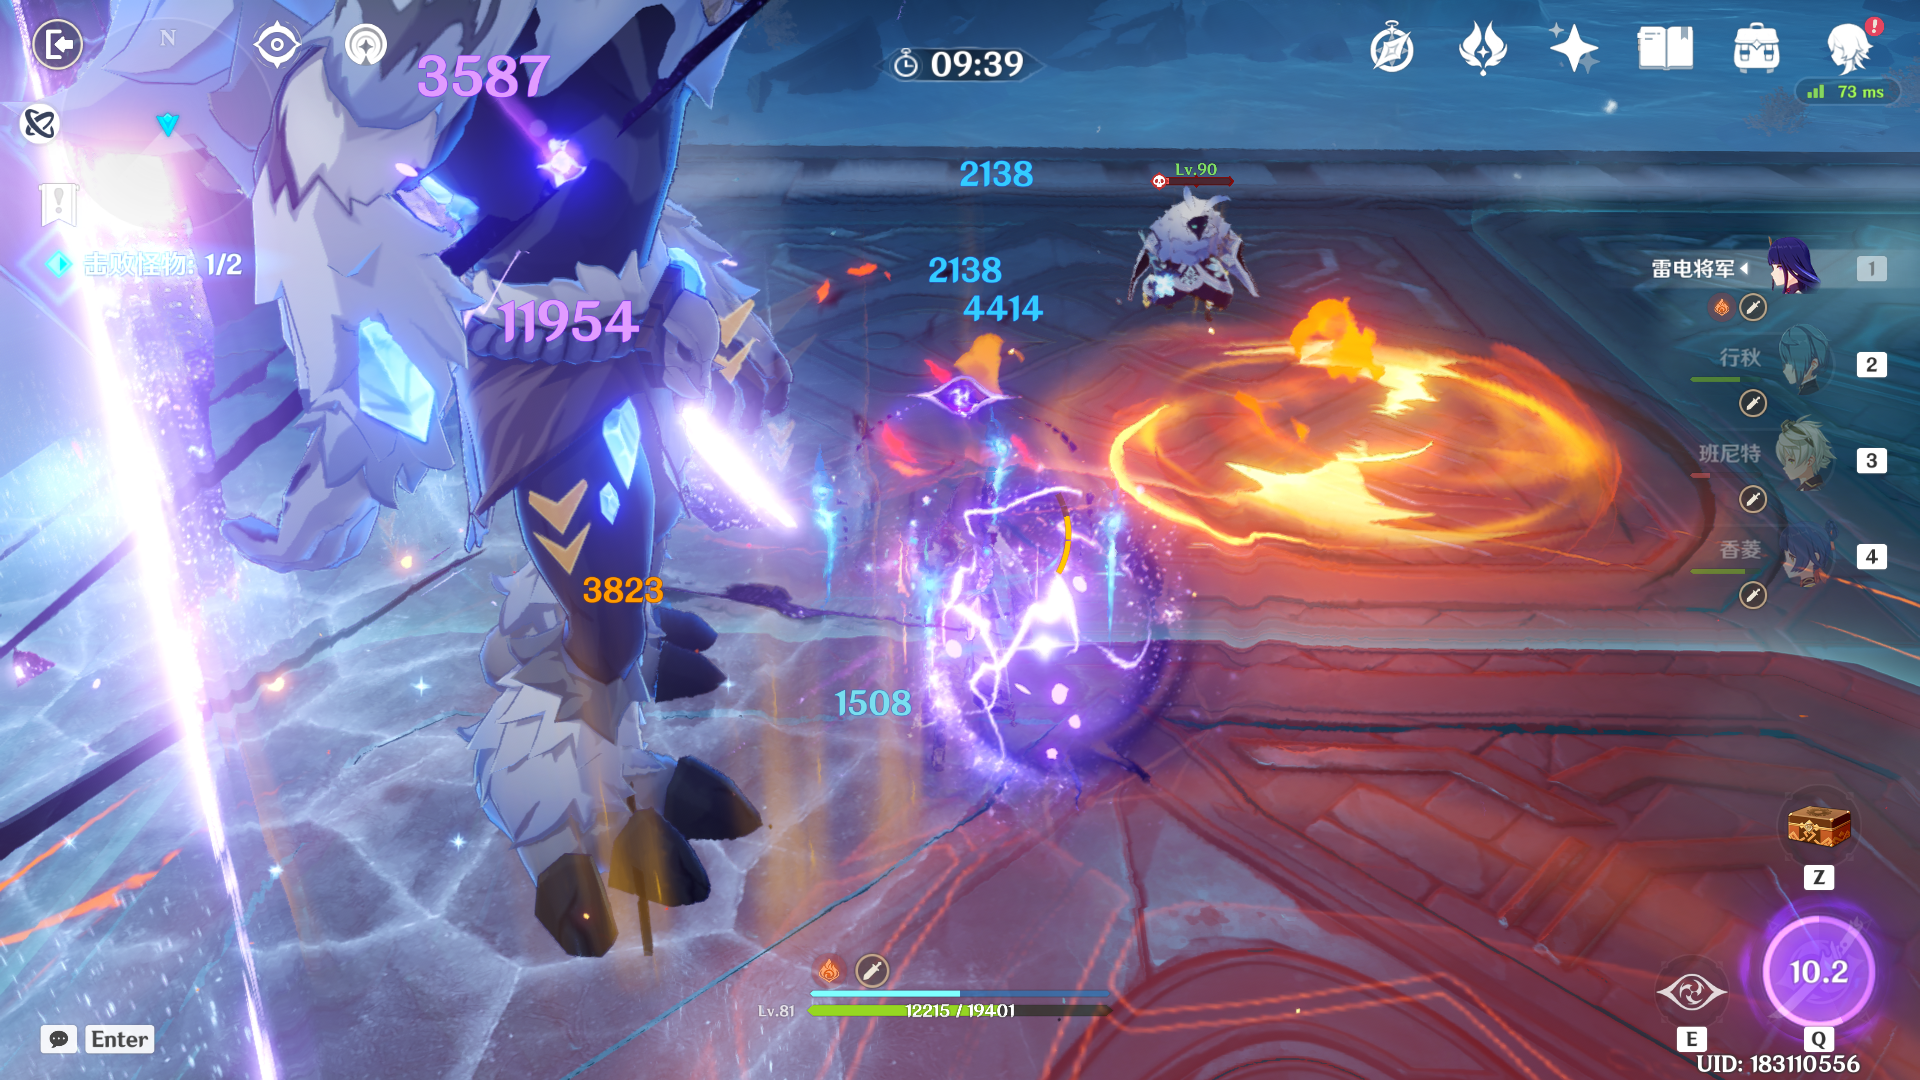bosshili: (1, 1, 822, 1006)
caster: (1116, 160, 1275, 345)
